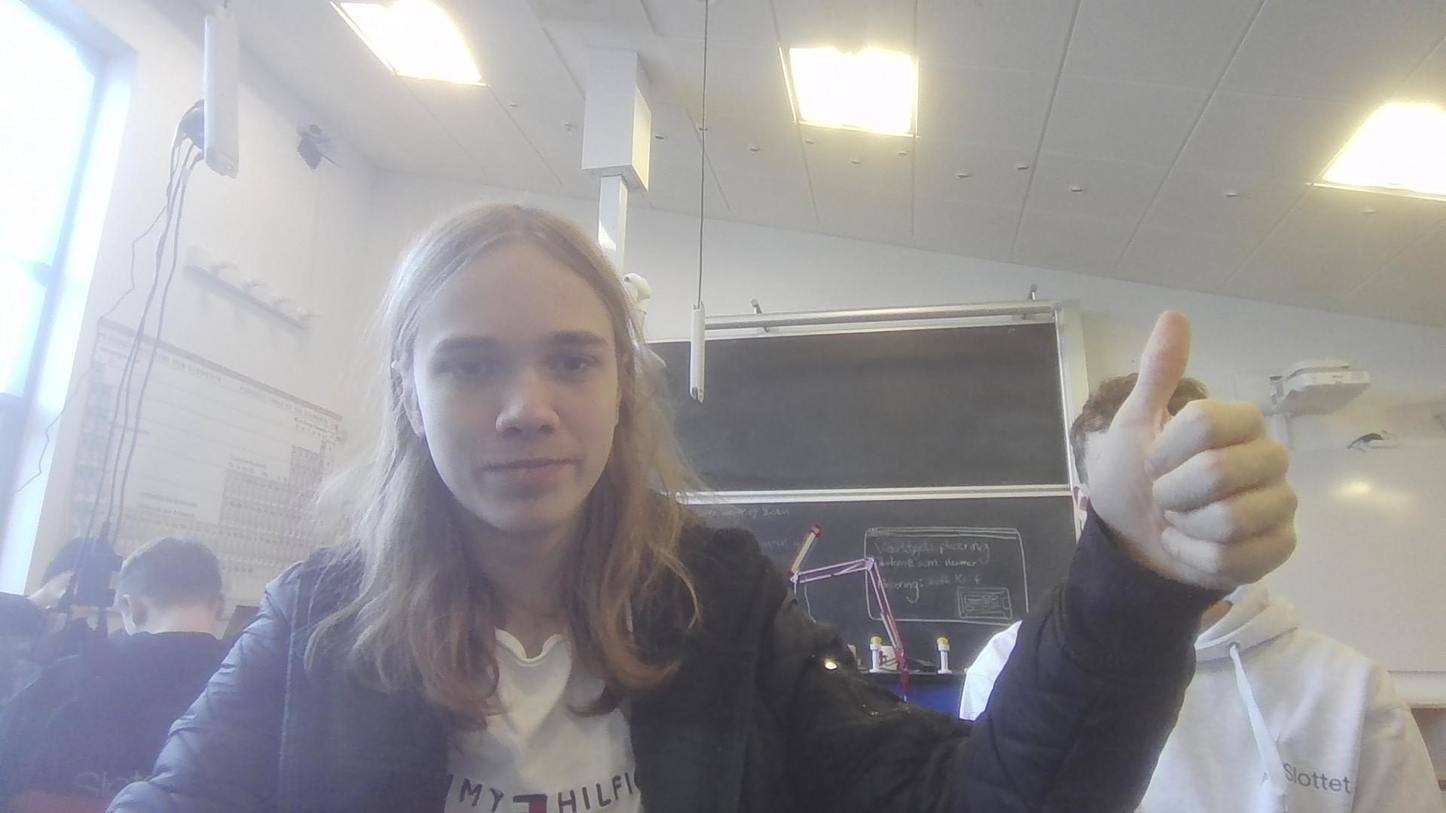thumbs up: (1052, 298, 1314, 589)
